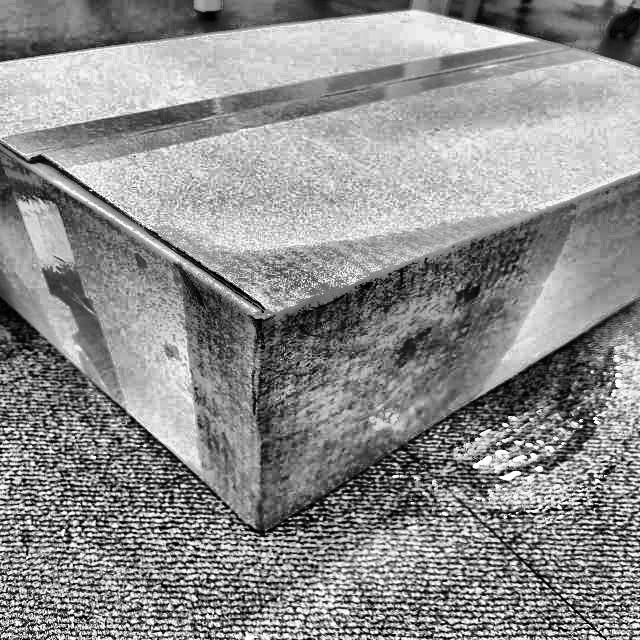box: (0, 6, 640, 548)
wet: (174, 193, 536, 531)
